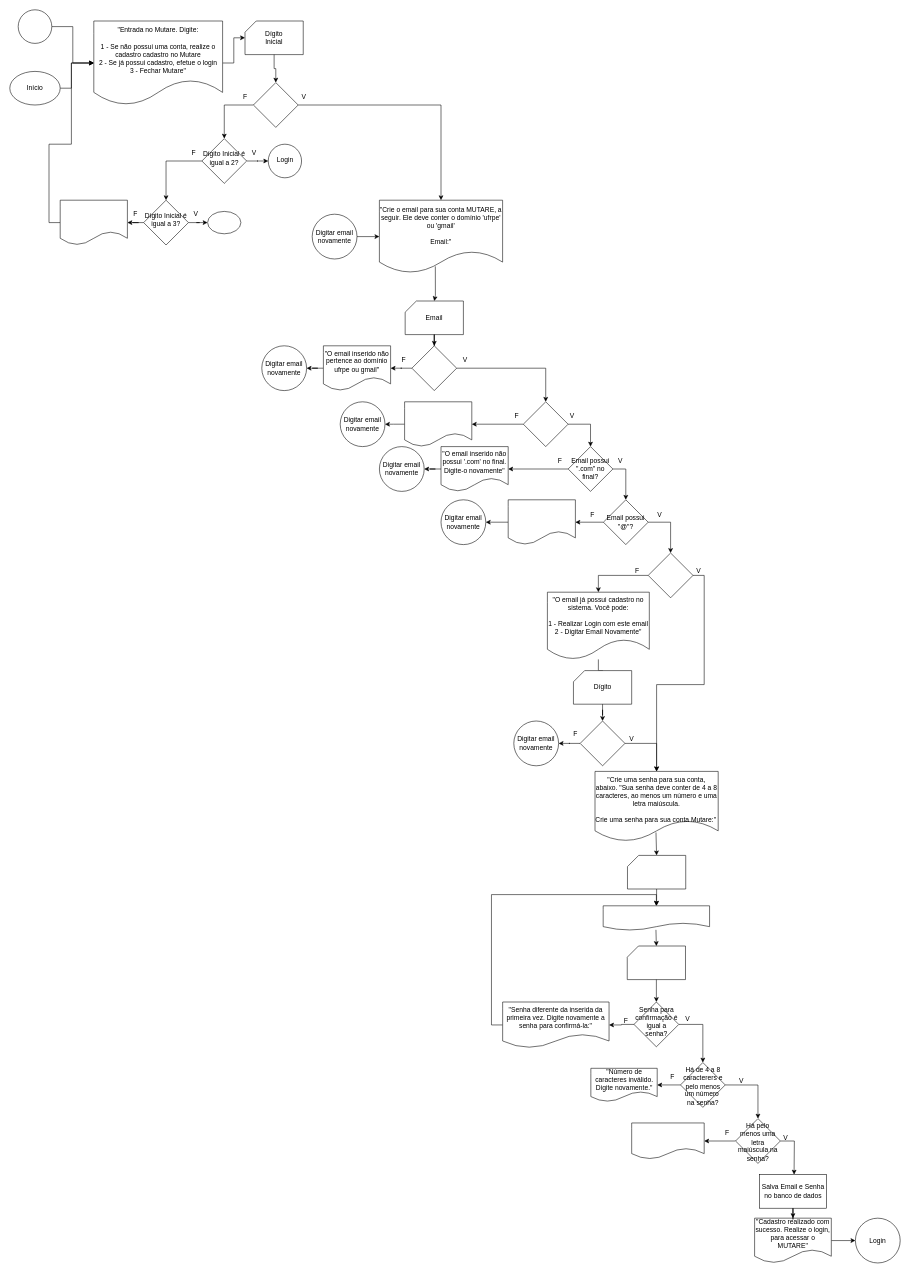
This 910x1273 diagram has some shape labels left out. Each missing label, with the centre of its shape:
"Confirme sua senha. Digite-a novamente:": pixel 656 917
"Dígito inválido. Digite-o novamente": pixel 93 222
"O email inserido não possui '@'. Digite-o novamente": pixel 541 522
"O email inserido possui espaço em branco. Digite-o novamente": pixel 438 424
Cadastro: pixel 35 26
Dígito Inicial é igual a 1?: pixel 275 104
Email não possui espaços em branco?: pixel 545 424
Email tem domínio "ufrpe" ou "gmail"?: pixel 434 368
Email é diferente de qualquer outro salvo no banco de dados"?: pixel 670 575
Fim: pixel 224 222
Não há letra maiúscula. Digite a senha novamente: pixel 667 1140
O dígito foi 1?: pixel 602 743
Senha da conta: pixel 656 872
Senha para confirmação: pixel 656 962
